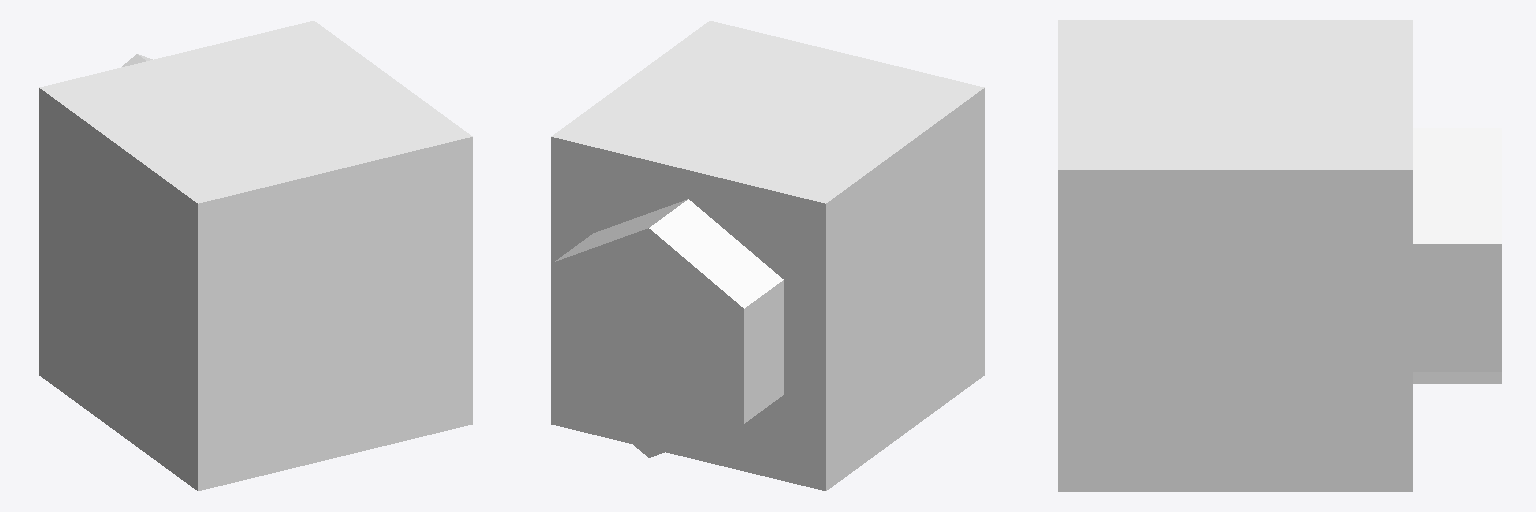
robot.urdf — Hexagon_cube_cap_preprocessed:
<?xml version="1.0" ?>
<robot name="Hexagon_cube_cap_preprocessed">
  <link name="baseLink">
    <contact>
    	<friction_anchor/>
    	   <lateral_friction value="1.0"/>
    </contact>
    <inertial>
      <origin rpy="0 0 0" xyz="0 0 0"/>
       <!-- mass controls penetration -->
       <mass value=".5"/>
       <inertia ixx="1e-4" ixy="0" ixz="0" iyy="1e-4" iyz="0" izz="1e-4"/>
    </inertial>
    <visual>
      <origin rpy="0 0 0" xyz="0 0 0"/>
      <geometry>
        <mesh filename="Hexagon_cube_cap_preprocessed.obj"/>
      </geometry>
       <material name="white">
        <color rgba="1 1 1 1"/>
      </material>
    </visual>
    <collision>
      <origin rpy="0 0 0" xyz="0 0 0"/>
      <geometry>
        <mesh filename="Hexagon_cube_cap_preprocessed.obj"/>
      </geometry>
    </collision>
  </link>
</robot>

--- Facts derived from the render (not from the file) ---
Views: 3 orthographic renders of the robot side by side, from view 1: azimuth 30°, elevation 25°; view 2: azimuth 150°, elevation 25°; view 3: azimuth 270°, elevation 25°.
Robot: Hexagon_cube_cap_preprocessed — 1 links, 0 joints (none); root link baseLink; default pose: all joints at 0.
Links seen in each view (by area): view 1: baseLink; view 2: baseLink; view 3: baseLink.
Boxes of the visible links, x1,y1,x2,y2 form: baseLink: (39,21,472,490); baseLink: (551,21,984,490); baseLink: (1058,20,1501,491).
Size in the robot's own frame: 0.08 by 0.1 by 0.08 metres.
Meshes: 1 distinct files referenced, 1 mesh visuals loaded (1 OBJ).